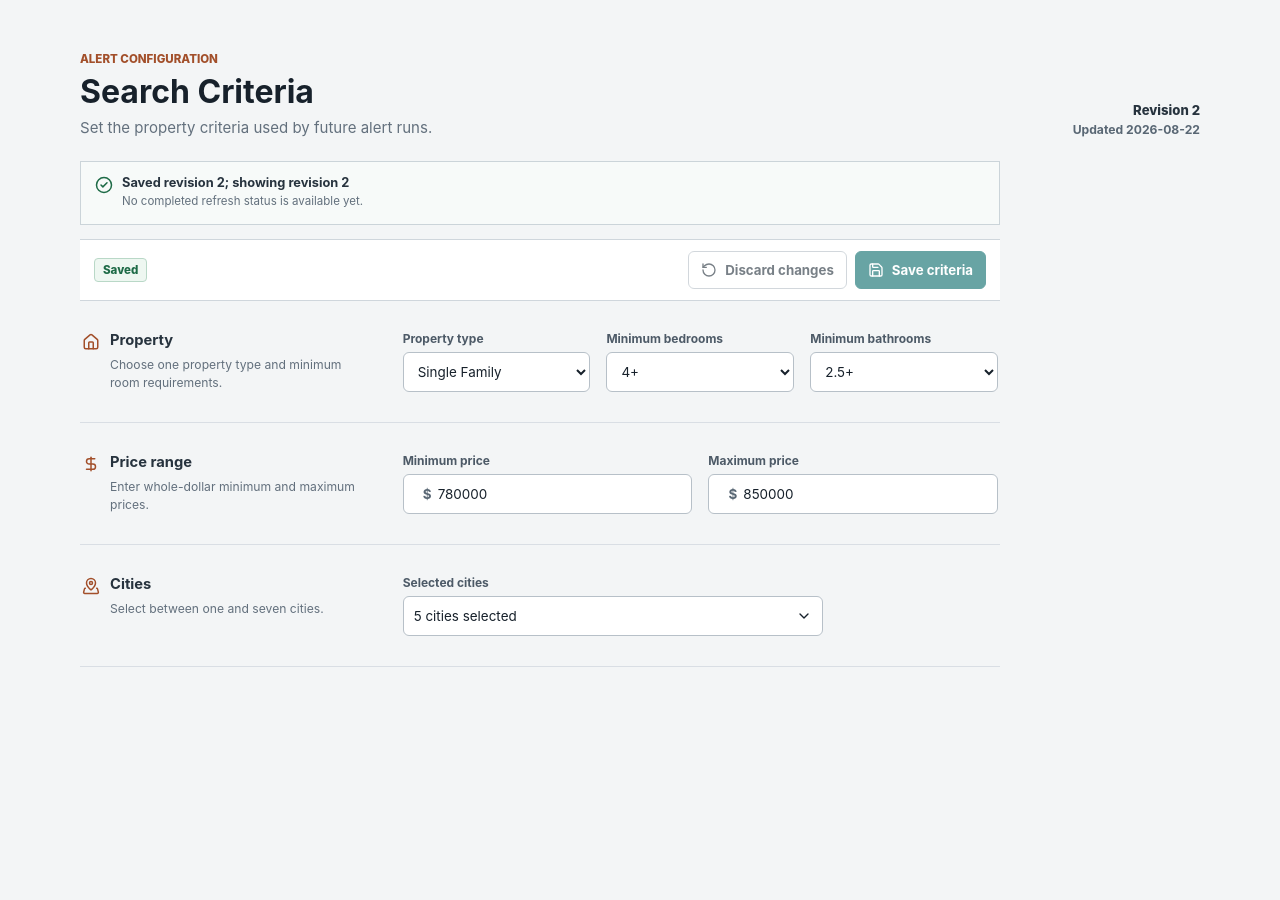
it: SearchCriteriaScreen › keeps a five-market profile unchanged while offering opt-in markets
The image size is (1280, 900).
Expected: the text "Select between one and seven cities." is shown, [110,600,324,618]
Click the button "5 cities selected".
click(465, 616)  # box [403,596,823,636]
(page scrolled)
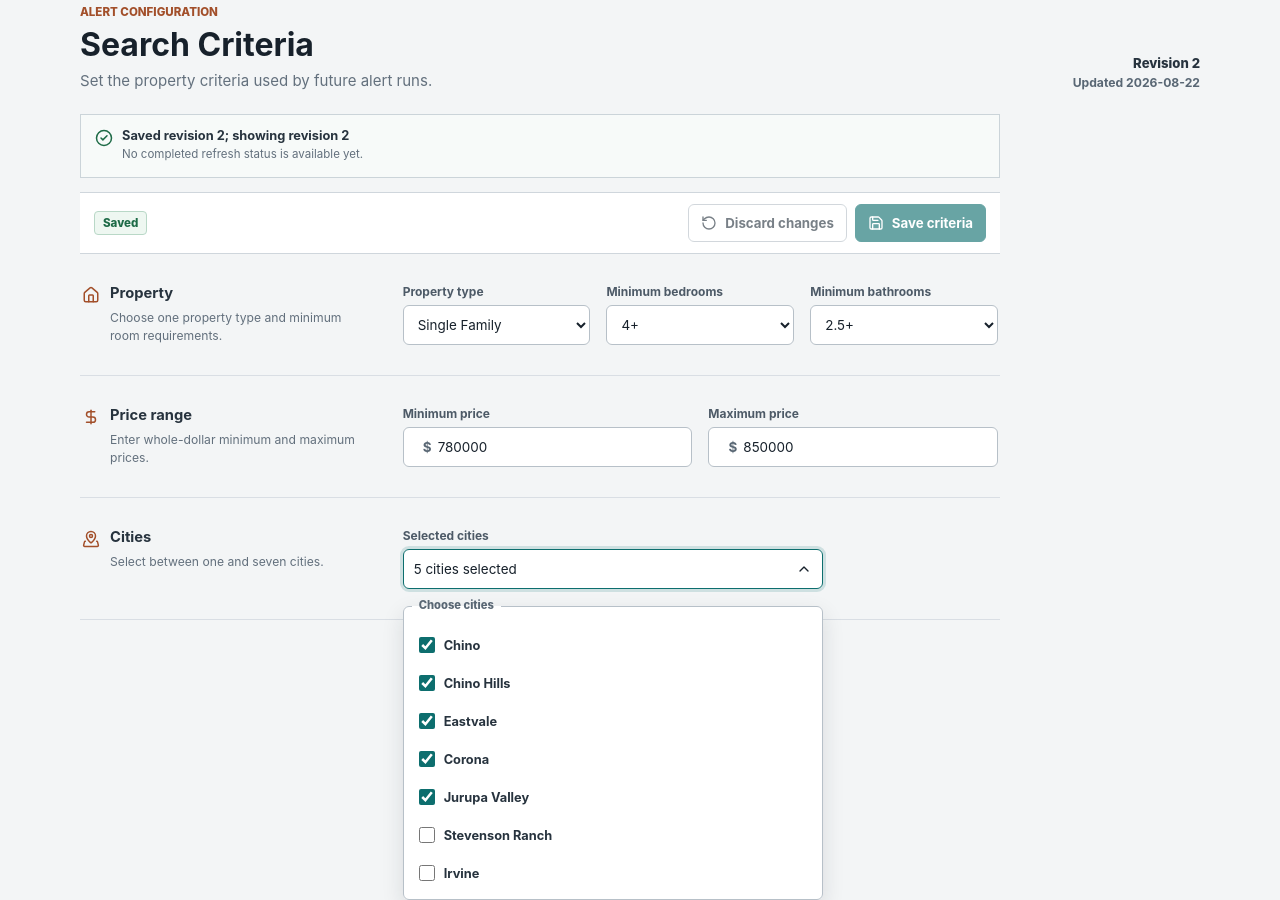
Now the checkbox labelled "Stevenson Ranch" is not checked, box [419,828,435,844]
Now the checkbox labelled "Irvine" is not checked, box [419,866,435,882]
